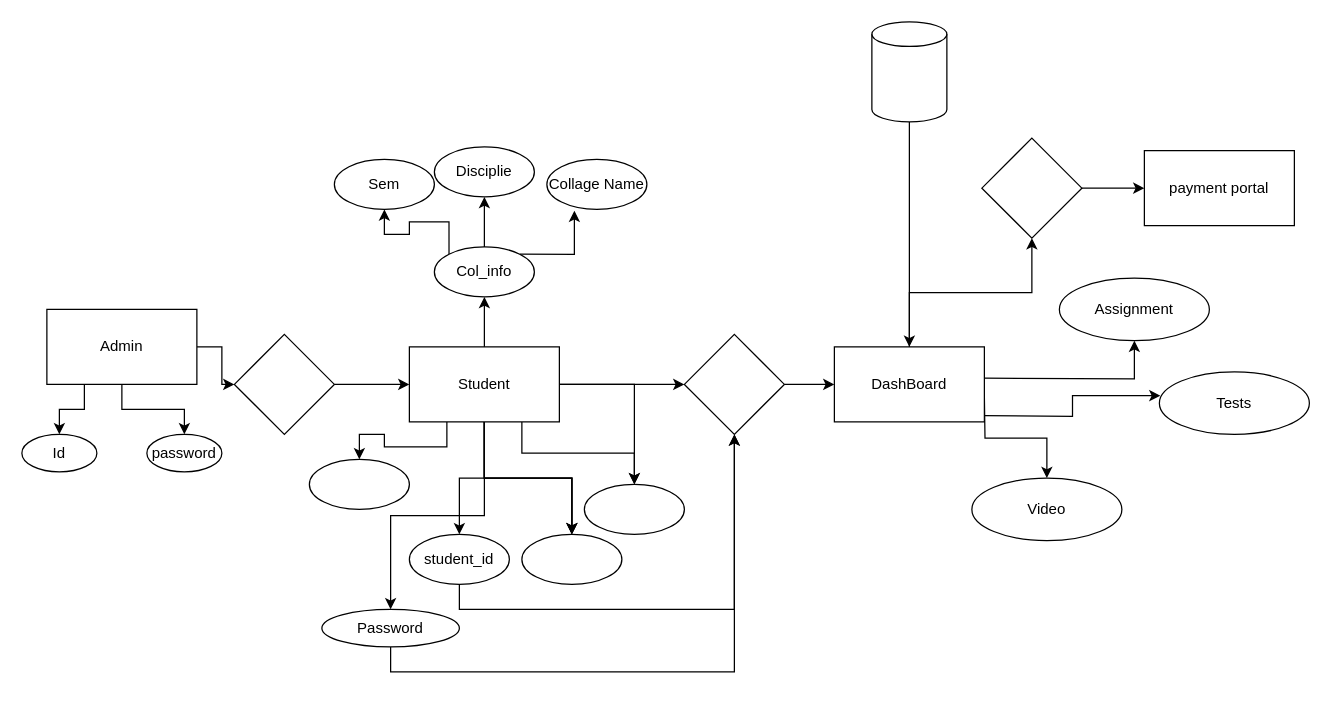
Some shapes in this 1331 by 704 pixel diagram are drawn without their labels. Each missing label, with the centre of its shape:
Add / View: the point at 283,383
Content: the point at 909,71
DOB: the point at 571,558
Email: the point at 633,508
login: the point at 733,383
Name: the point at 358,483
Payment: the point at 1031,187
